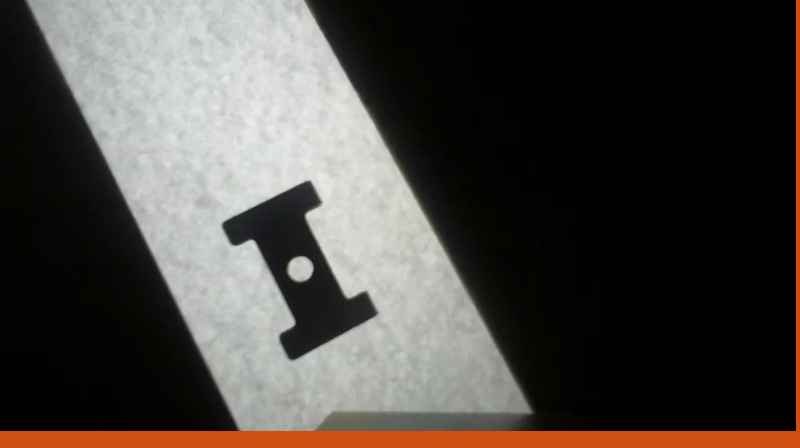O002: (219, 177, 382, 364)
